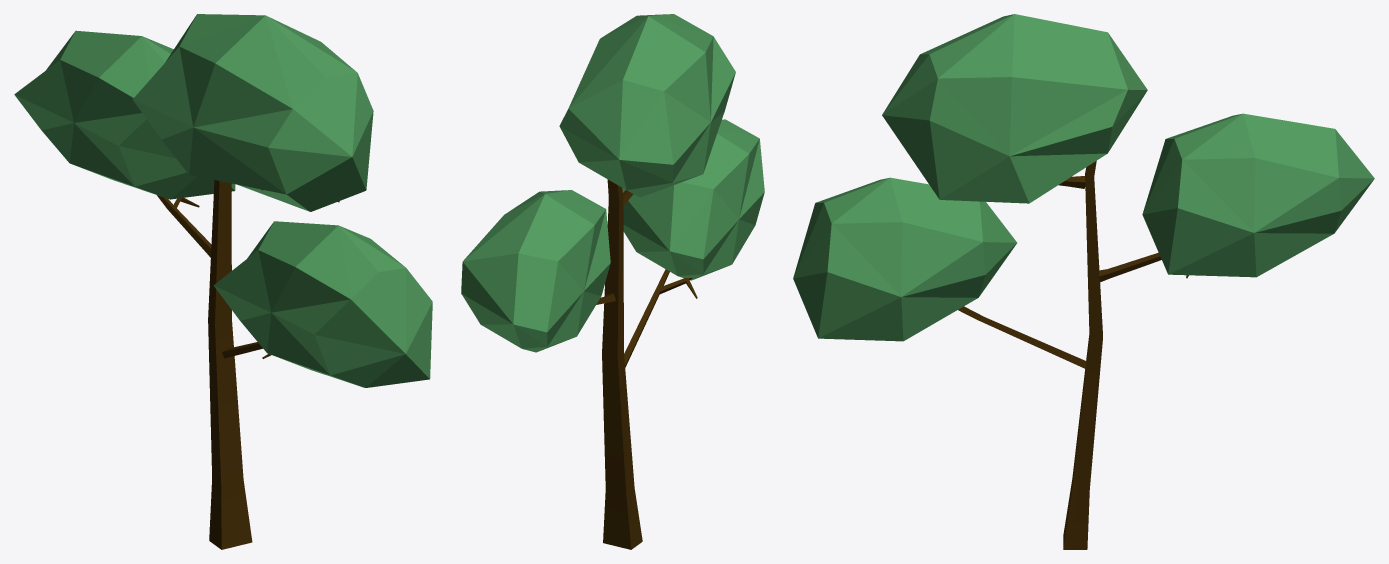
The model's file is lowpolytree.fbx.
3 renders of one model, left to right at view 1: azimuth 30°, elevation 25°; view 2: azimuth 150°, elevation 25°; view 3: azimuth 270°, elevation 25°, orthographic. The views are drawn at different scales.
Parts seen in each view (by area): view 1: Leaves2, Leaves1, leaves3, Trunk, Branch2; view 2: Leaves2, leaves3, Leaves1, Trunk, Branch1; view 3: Leaves2, leaves3, Leaves1, Trunk, Branch1.
Part boxes in pixels (x1,y1,x2,y2): Leaves2: (132, 14, 373, 211); Leaves1: (213, 221, 432, 387); leaves3: (14, 30, 235, 199); Trunk: (208, 180, 252, 549); Branch2: (157, 195, 211, 257); Leaves2: (559, 14, 735, 197); leaves3: (461, 190, 610, 352); Leaves1: (622, 119, 764, 280); Trunk: (602, 179, 642, 549); Branch1: (624, 269, 697, 367); Leaves2: (882, 14, 1147, 203); leaves3: (1142, 113, 1374, 277); Leaves1: (793, 177, 1017, 341); Trunk: (1063, 161, 1102, 549); Branch1: (958, 306, 1086, 368).
Bounding box in the file's own units: 1.8 × 5.83 × 5.8.
